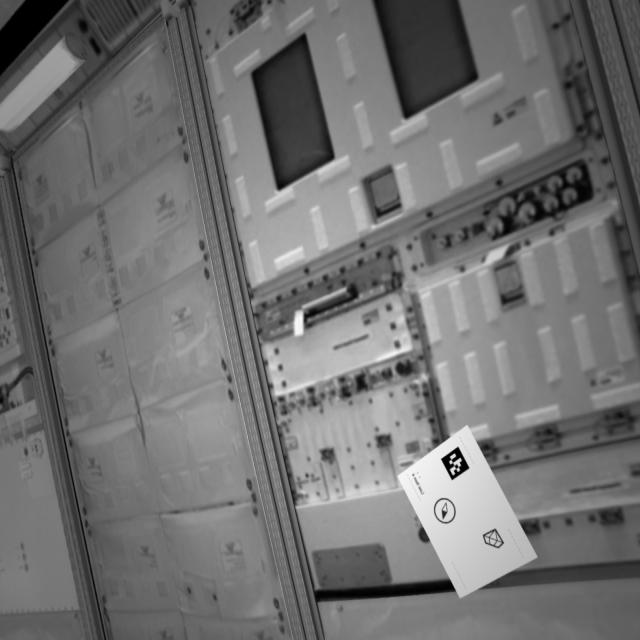compass: (433, 497, 460, 527)
diamond: (483, 521, 506, 553)
